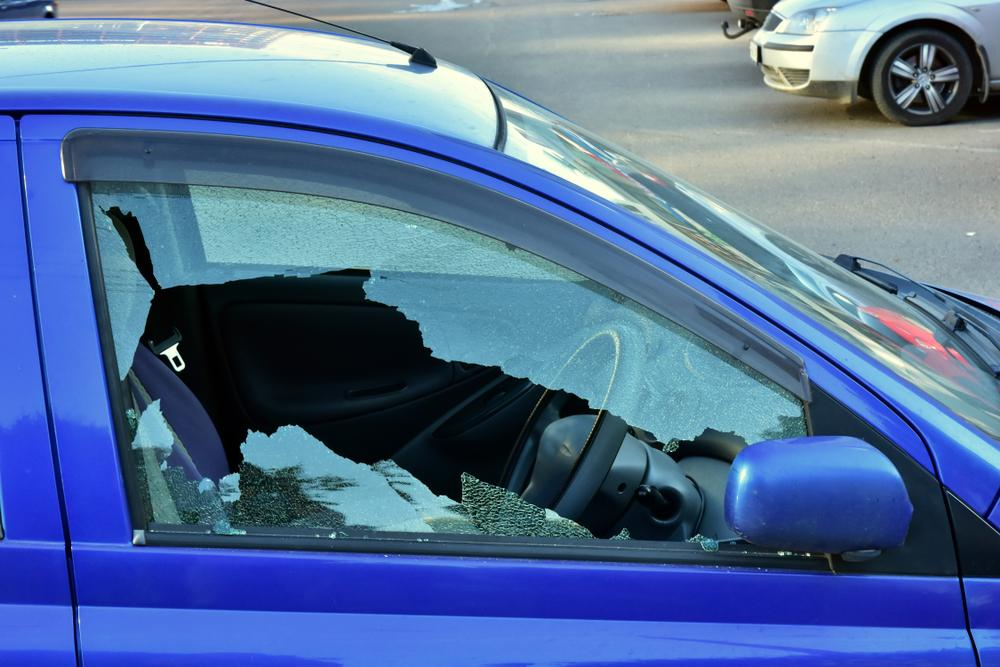glass shatter: (90, 181, 808, 544)
